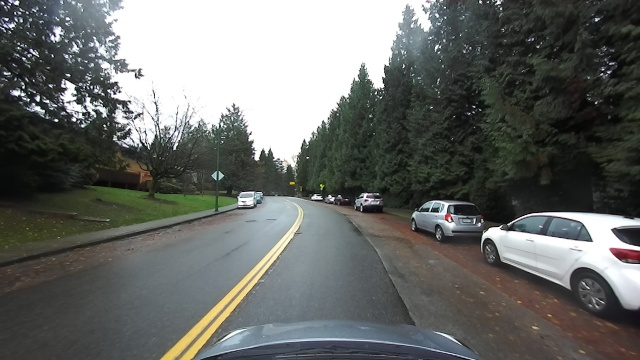car: (479, 203, 639, 320), (408, 198, 487, 242), (352, 191, 387, 215), (237, 191, 258, 208), (332, 192, 350, 206), (309, 191, 322, 203)
